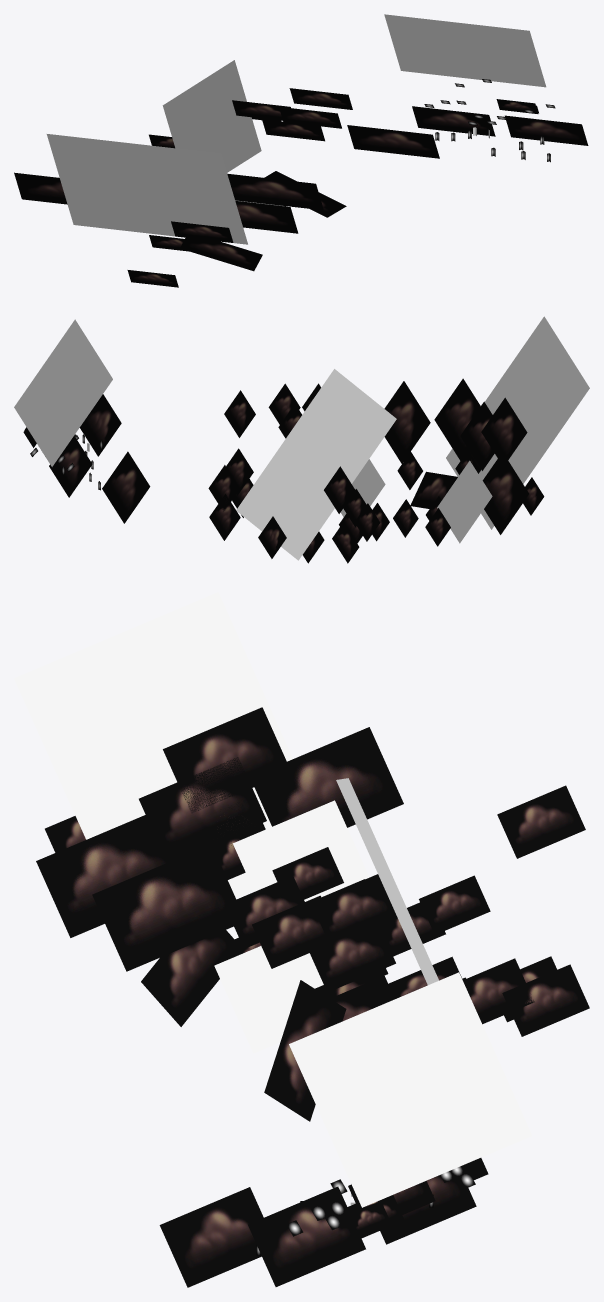
The model's file is _VFXTransparent.fbx.
The picture shows the model from 3 angles, top to bottom: view 1: azimuth 30°, elevation 25°; view 2: azimuth 150°, elevation 25°; view 3: azimuth 270°, elevation 25°; orthographic projection. The views are drawn at different scales.
Visible parts, largest first — view 1: focus (×2), FactoryOverlay, cloud (14), cloud_PCPORT (3), cloud_PCPORT (2), cloud_PCPORT (4), cloud (9), cloud (7), cloud (10), cloud (×2), cloud (13), cloud (11) (+5 smaller); view 2: focus (×4), FactoryOverlay, cloud (×10), cloud (14), cloud (10), cloud_PCPORT (3), cloud (9), cloud_PCPORT (1), cloud_PCPORT (4), cloud (7), cloud (5), cloud (13) (+5 smaller); view 3: focus (×4), cloud (×11), cloud (14), cloud (10), cloud (9), cloud_PCPORT (1), cloud_PCPORT (2), cloud (7), cloud (2), cloud (13), cloud (5), cloud (6) (+6 smaller).
Boxes of the visible parts, bbox=[...] form: focus (×2): bbox=[46, 14, 546, 244]; FactoryOverlay: bbox=[162, 60, 261, 172]; cloud (14): bbox=[227, 173, 323, 210]; cloud_PCPORT (3): bbox=[347, 125, 439, 158]; cloud_PCPORT (2): bbox=[505, 115, 588, 145]; cloud_PCPORT (4): bbox=[412, 106, 495, 136]; cloud (9): bbox=[235, 201, 298, 233]; cloud (7): bbox=[180, 237, 262, 271]; cloud (10): bbox=[14, 172, 67, 204]; cloud (×2): bbox=[127, 235, 188, 287]; cloud (13): bbox=[289, 88, 352, 109]; cloud (11): bbox=[262, 119, 324, 141]; focus (×4): bbox=[14, 316, 589, 543]; FactoryOverlay: bbox=[236, 369, 396, 560]; cloud (×10): bbox=[208, 397, 544, 546]; cloud (14): bbox=[384, 381, 430, 463]; cloud (10): bbox=[482, 459, 528, 534]; cloud_PCPORT (3): bbox=[102, 451, 150, 523]; cloud (9): bbox=[434, 378, 480, 460]; cloud_PCPORT (1): bbox=[79, 394, 121, 456]; cloud_PCPORT (4): bbox=[49, 435, 92, 497]; cloud (7): bbox=[410, 471, 457, 508]; cloud (5): bbox=[324, 466, 355, 513]; cloud (13): bbox=[224, 390, 255, 437]; focus (×4): bbox=[14, 592, 531, 1207]; cloud (×11): bbox=[139, 707, 589, 1236]; cloud (14): bbox=[92, 844, 236, 971]; cloud (10): bbox=[254, 727, 403, 827]; cloud (9): bbox=[36, 815, 166, 937]; cloud_PCPORT (1): bbox=[159, 1187, 263, 1287]; cloud_PCPORT (2): bbox=[248, 1186, 365, 1286]; cloud (7): bbox=[141, 930, 234, 1026]; cloud (2): bbox=[264, 980, 346, 1121]; cloud (13): bbox=[307, 919, 395, 992]; cloud (5): bbox=[497, 785, 585, 858]; cloud (6): bbox=[311, 874, 397, 939].
Bounding box in the file's own units: 214 × 66.1 × 120.
5 materials, 5 textured.
